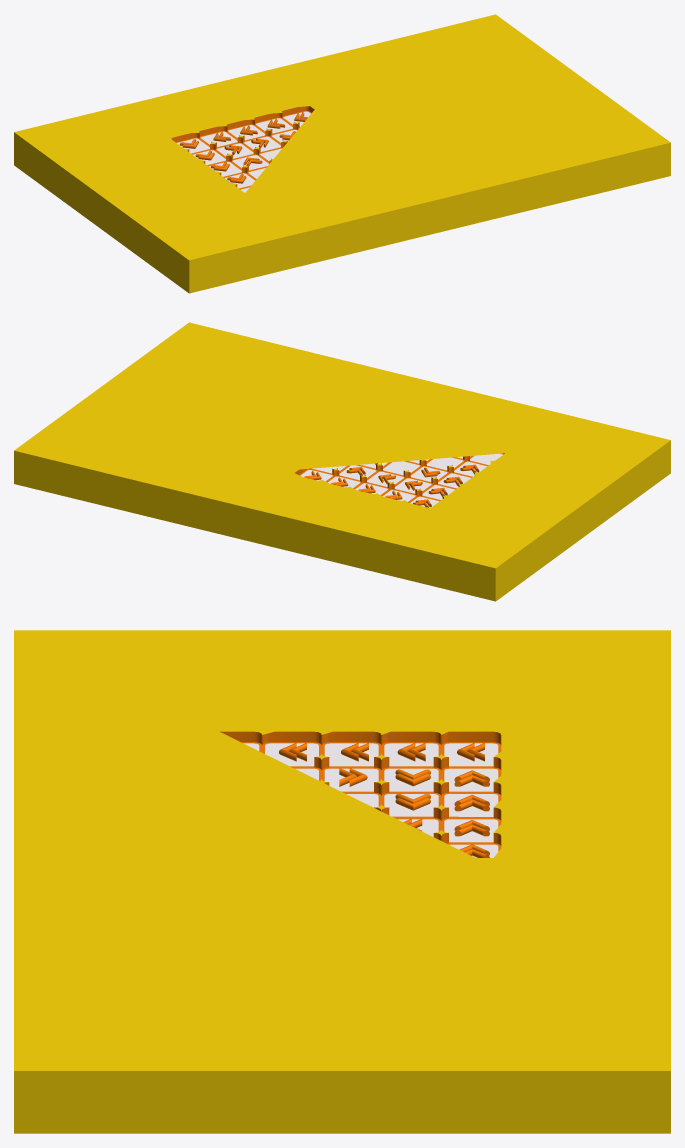
Rendered from level15.fbx.
The picture shows the model from 3 angles, top to bottom: view 1: azimuth 30°, elevation 25°; view 2: azimuth 150°, elevation 25°; view 3: azimuth 270°, elevation 25°; orthographic projection. The views are drawn at different scales.
Parts seen in each view (by area): view 1: Ground.017; view 2: Ground.017; view 3: Ground.017.
Boxes of the visible parts, box(x1,y1,x2,y2) form: Ground.017: box(14, 14, 670, 293); Ground.017: box(14, 322, 670, 601); Ground.017: box(14, 630, 670, 1133).
Bounding box in the file's own units: 7326 × 485 × 4613.
